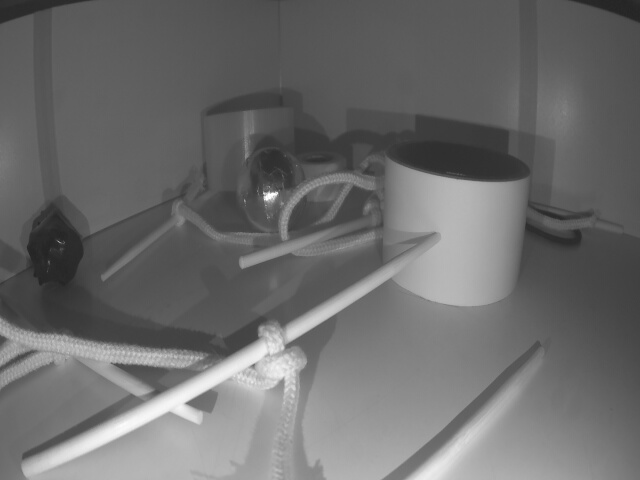Dead: (25, 207, 79, 285)
Live: (236, 144, 302, 232)
